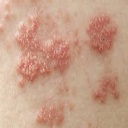Hives: (18, 17, 67, 82), (87, 14, 118, 53), (93, 76, 117, 103), (35, 102, 65, 123)
